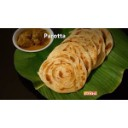parota: (39, 55, 87, 93), (50, 42, 91, 75), (64, 34, 98, 67)
